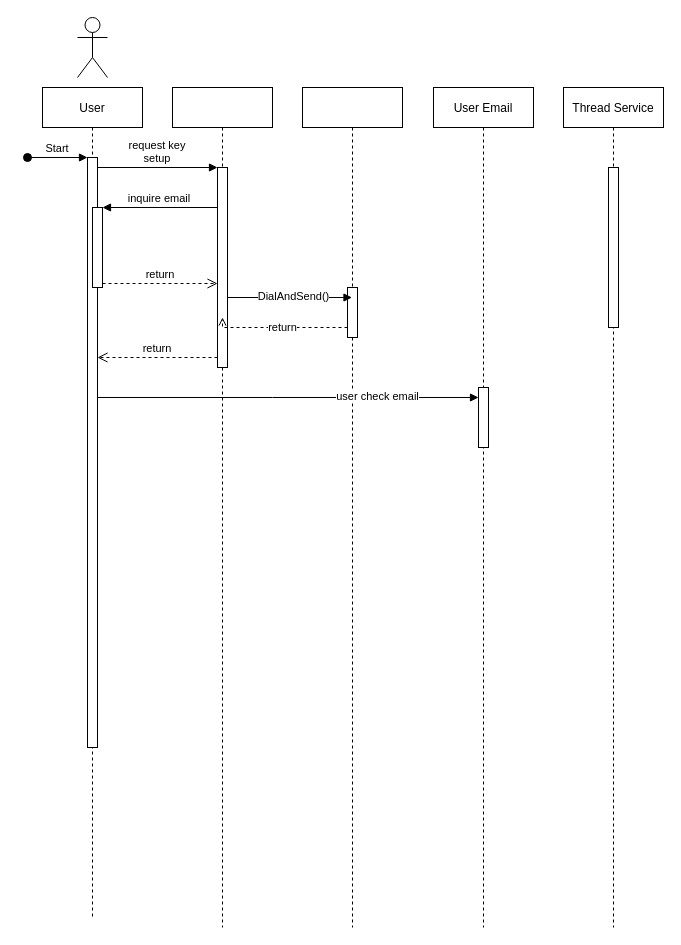
The diagram is 681 pixels wide and 945 high, and some of its shapes have lost their labels. The shapes that lost their labels are listed below. From the top down, each one's box as (x1, y1, x2, y2) in pixels, then its label:
(172, 86, 272, 928): Encryption Key Service
(302, 86, 402, 928): Email Service
